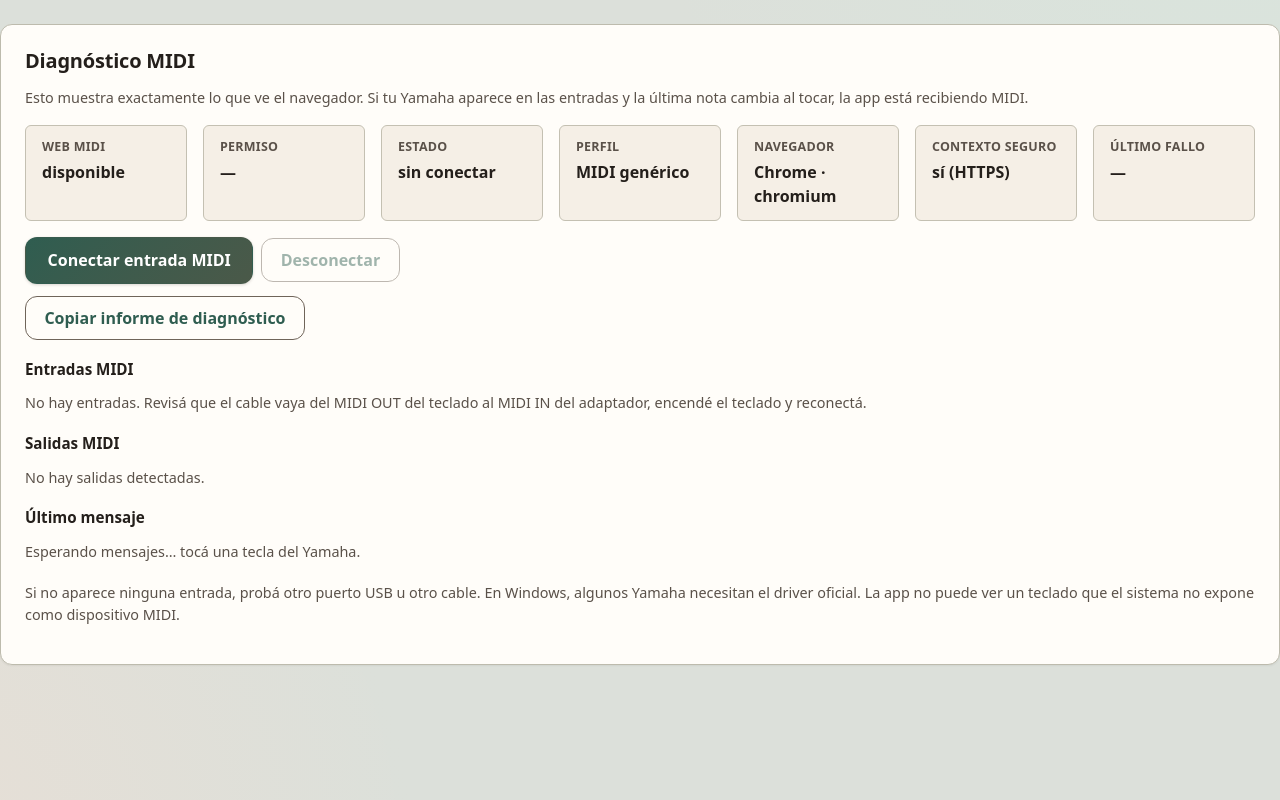
Test case: F6-033 — diagnóstico MIDI en Ajustes › mantiene las entradas vacías cuando el navegador no expone puertos
Click the button "Conectar entrada MIDI": (139, 260) [25,237,253,284]
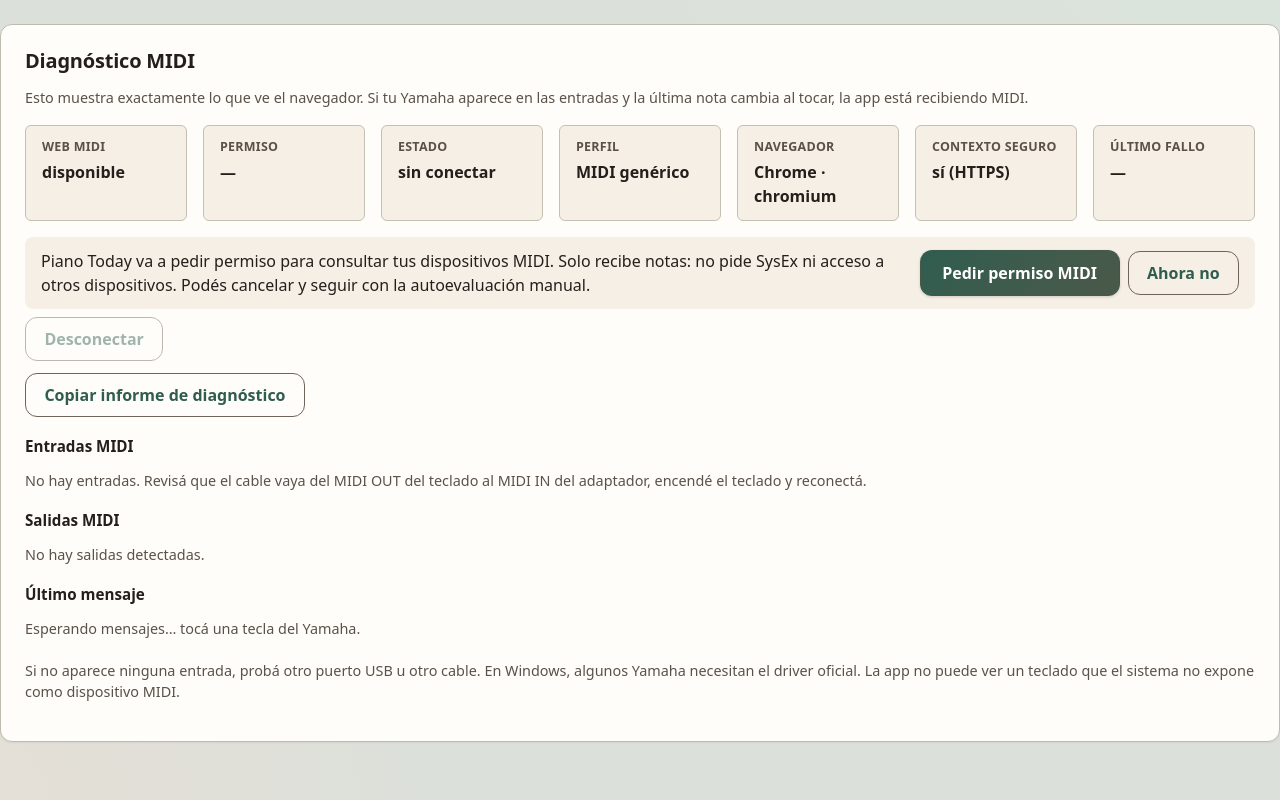
Click the button "Pedir permiso MIDI": (1020, 273) [920,250,1120,296]
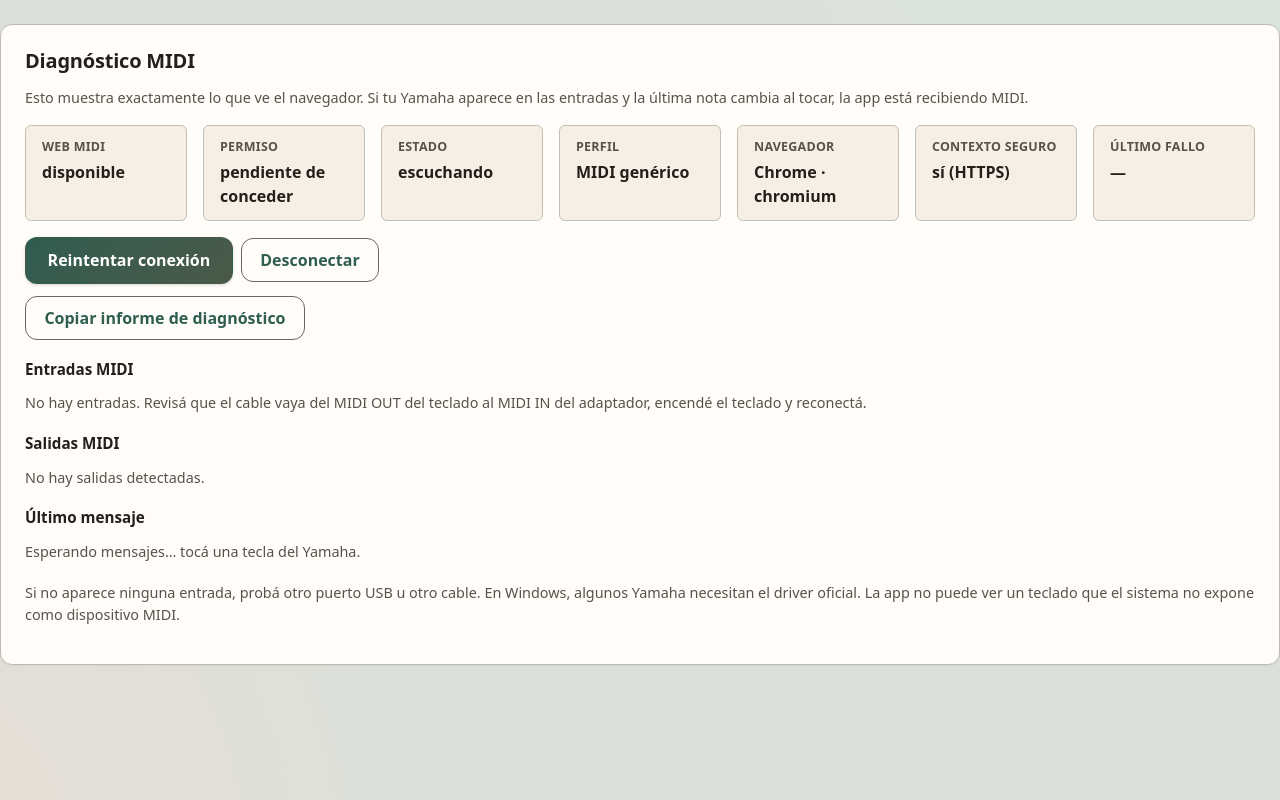
expect the text "No hay entradas" is shown: met, box [25,393,867,412]
expect the button "Reintentar conexión" is shown: met, box [25,237,233,284]
